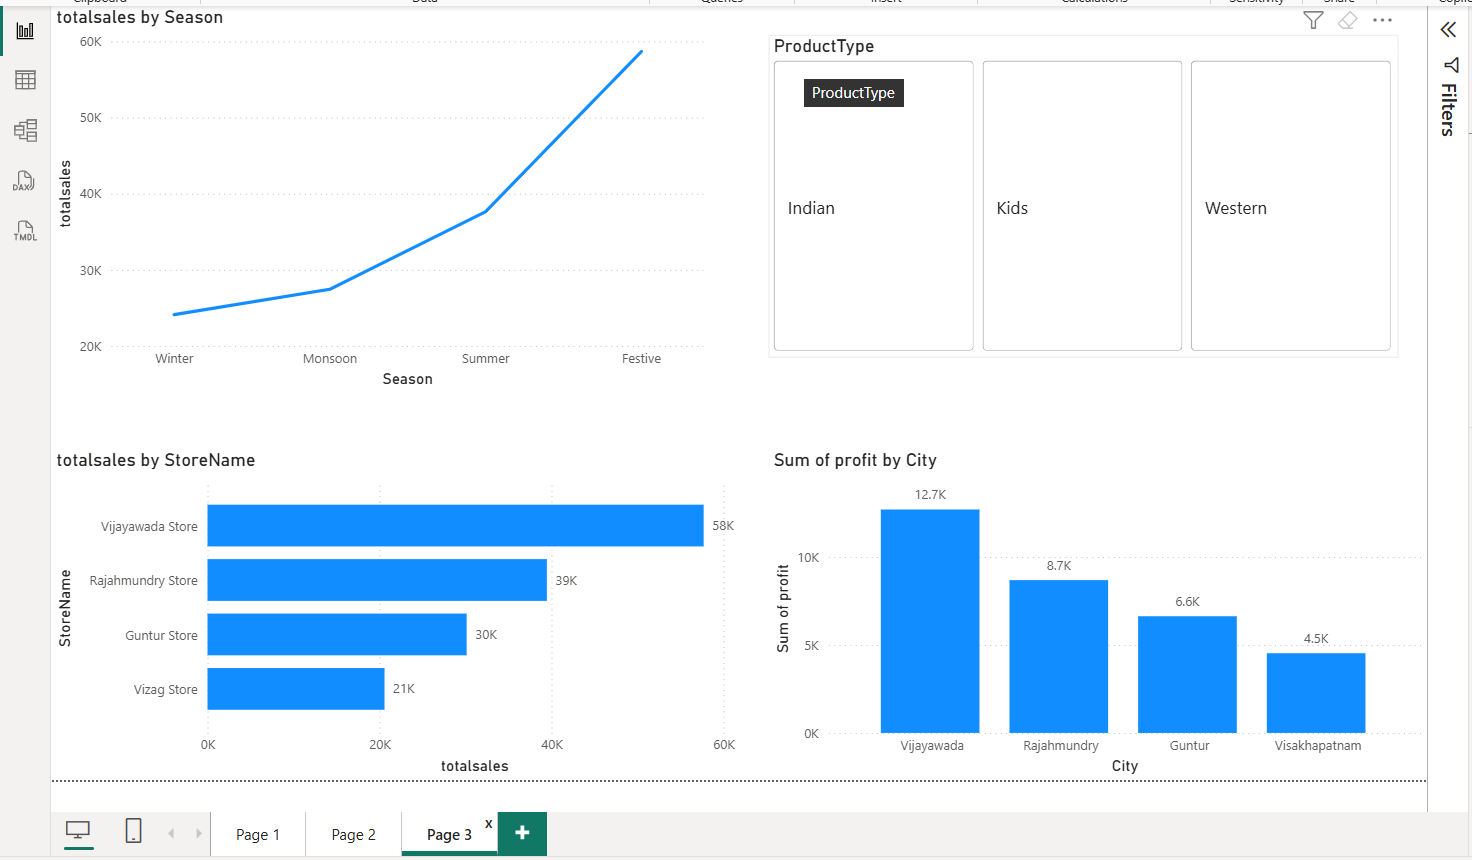

The page's visual inventory and layout, read from the dashboard file:
{"tool":"powerbi","page":{"name":"Page 3","canvas":[1280,720],"ordinal":2},"visuals":[{"type":"clusteredBarChart","fields":{"Category":["Table1.StoreName"],"Y":["Table1.totalsales"]},"box":[0,412,658,308],"z":1},{"type":"lineChart","fields":{"Category":["Table1.Season"],"Y":["Table1.totalsales"]},"box":[0,0,612.4,360.2],"z":2},{"type":"clusteredColumnChart","fields":{"Category":["Table1.City"],"Y":["Sum(Table1.profit)"]},"box":[667.6,411.9,612.4,308.6],"z":3},{"type":"advancedSlicerVisual","fields":{"Values":["Table1.ProductType"]},"box":[667.6,26.4,586,300.2],"z":4}]}

Visuals, with their boxes on the page's 1280x720 design canvas (x1, y1, x2, y2). These are canvas units, not pixel positions in the 1472x860 screenshot, which may show the page scaled, cropped or inside an application window:
clusteredBarChart - Table1.StoreName x Table1.totalsales: {"left": 0, "top": 412, "right": 658, "bottom": 720}
lineChart - Table1.Season x Table1.totalsales: {"left": 0, "top": 0, "right": 612, "bottom": 360}
clusteredColumnChart - Table1.City x Sum(Table1.profit): {"left": 668, "top": 412, "right": 1280, "bottom": 720}
advancedSlicerVisual - Table1.ProductType: {"left": 668, "top": 26, "right": 1254, "bottom": 327}
